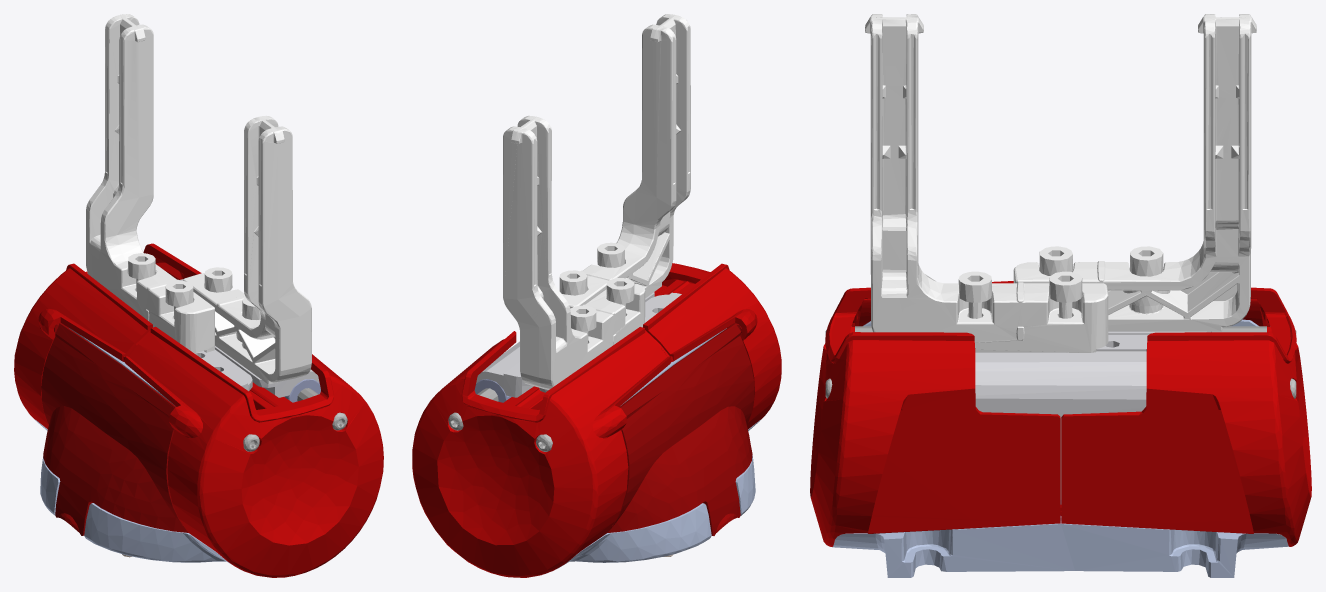
The model's file is electric_gripper_w_fingers.DAE.
The picture shows the model from 3 angles, left to right: view 1: azimuth 30°, elevation 25°; view 2: azimuth 150°, elevation 25°; view 3: azimuth 270°, elevation 25°; orthographic projection. The views are drawn at different scales.
Parts seen in each view (by area): view 1: _0030517_001; view 2: _0030517_001; view 3: _0030517_001.
Boxes of the visible parts, left/top/right/bottom form: _0030517_001: left=14, top=14, right=383, bottom=577; _0030517_001: left=412, top=14, right=781, bottom=577; _0030517_001: left=810, top=14, right=1311, bottom=577.
Size of the model in its own units: 0.066 by 0.1055 by 0.1218.
